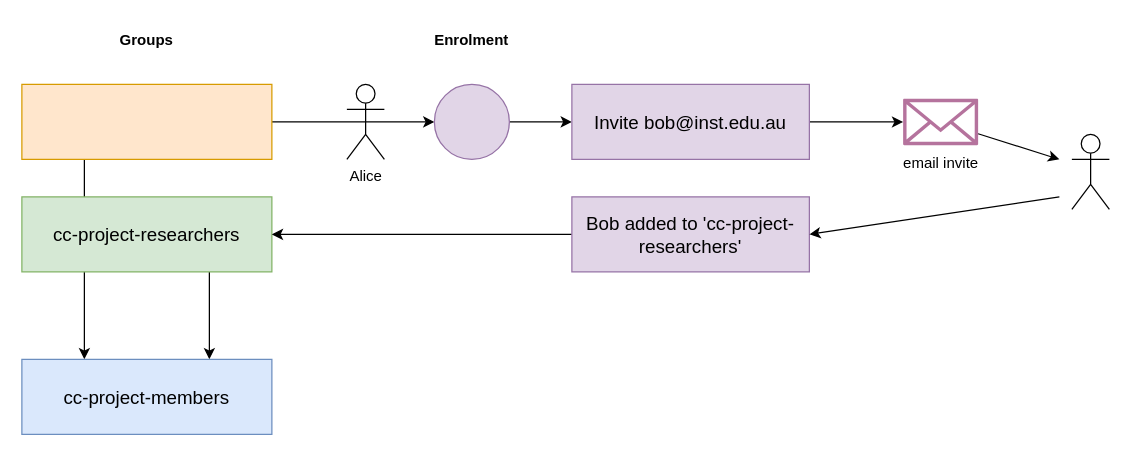
The diagram is 1131 pixels wide and 456 high, and some of its shapes have lost their labels. The shapes that lost their labels are listed below. From the top down, each one's centre as x and y in pixels, then its label:
At [146,121]: "cc-project-admins".
At [471,121]: "Start".
At [1090,171]: "Bob".
